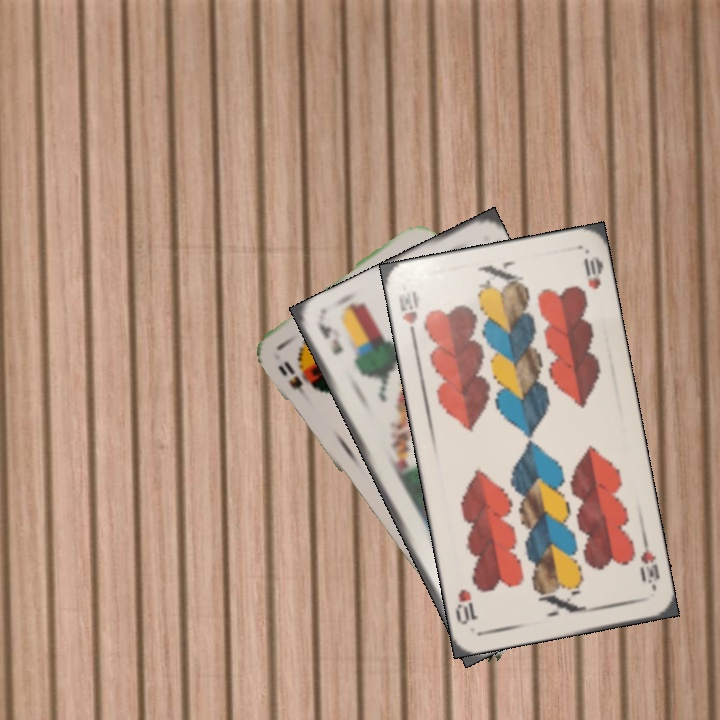EK: (315, 320, 345, 357)
H10: (394, 286, 421, 344), (636, 534, 662, 593)
SO: (274, 356, 314, 406)
